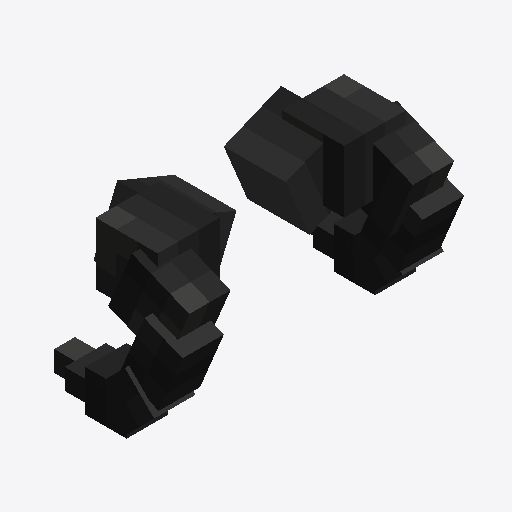
Isometric view (azimuth 45°, elevation 35.3°) of a Minecraft model made of 16 cuboids, textured from the same repository.
Parts seen in each view (by area): element 1, element 2, element 16, element 10, element 3, element 11, element 4, element 12, element 9, element 6, element 13, element 5 (+3 smaller).
Boxes of the visible parts, <box> form: element 1: <box>224,86,342,234</box>; element 2: <box>282,74,405,216</box>; element 16: <box>96,182,219,297</box>; element 10: <box>108,248,229,339</box>; element 3: <box>361,101,453,236</box>; element 11: <box>120,313,223,410</box>; element 4: <box>361,178,463,271</box>; element 12: <box>85,343,167,438</box>; element 9: <box>94,175,235,264</box>; element 6: <box>334,208,415,294</box>; element 13: <box>96,366,194,433</box>; element 5: <box>344,232,443,291</box>.
Size of the model in its own units: 14 by 7.53 by 6.5.